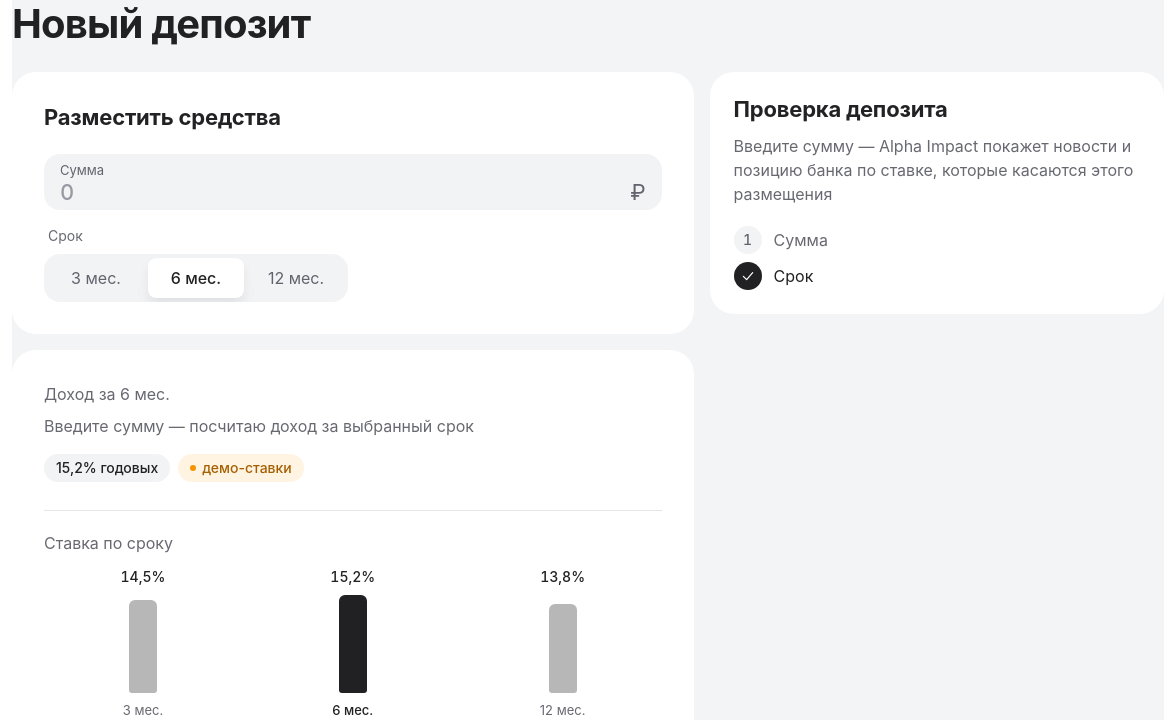
Test: DepositPage › shows the bank view on the rate and the calculation in the panel
Type "50000000" into the field named "Сумма, ₽" at (353, 182), box [44,154,662,210]
Wait 500 ms
(page scrolled)
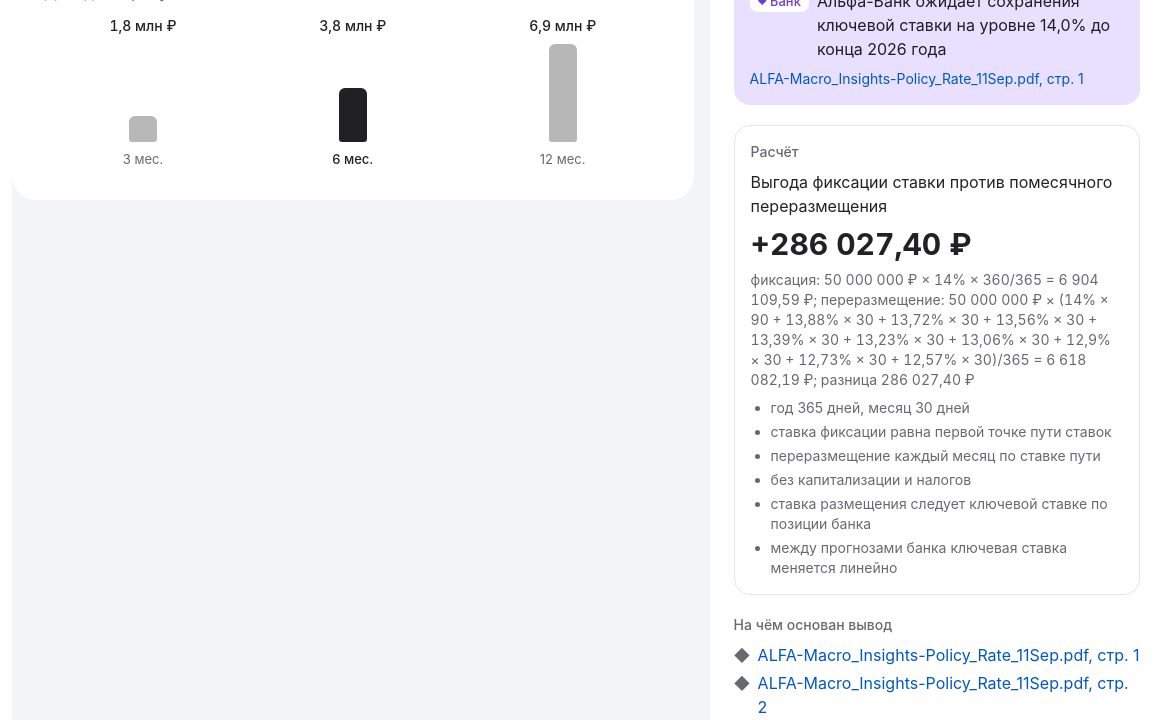
Expected: the element "Расчёт" is shown, [734,125,1140,595]
